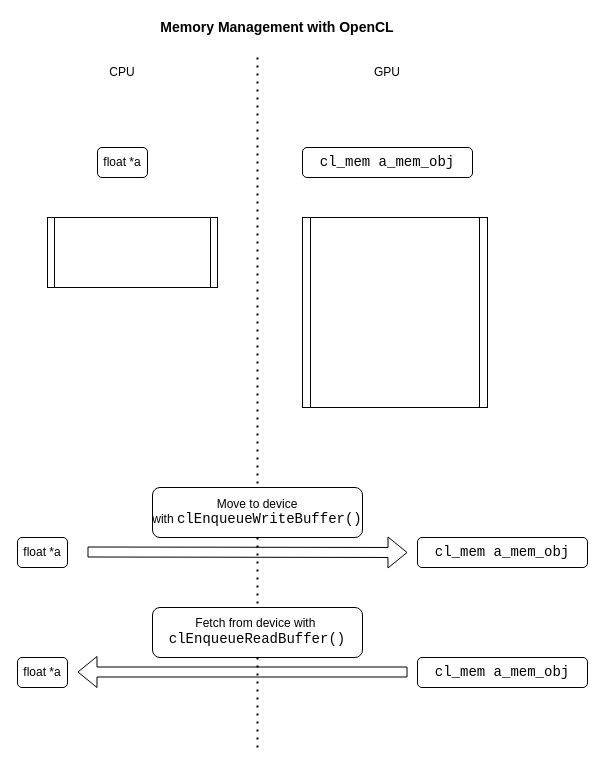
Some shapes in this 605 by 766 pixel diagram are drawn without their labels. Each missing label, with the centre of its shape:
"Created with clCreateBuffer() Destroyed with clReleaseMemObject()" belongs at point (395, 312).
"Created with malloc() Destroyed with free()" belongs at point (132, 252).
